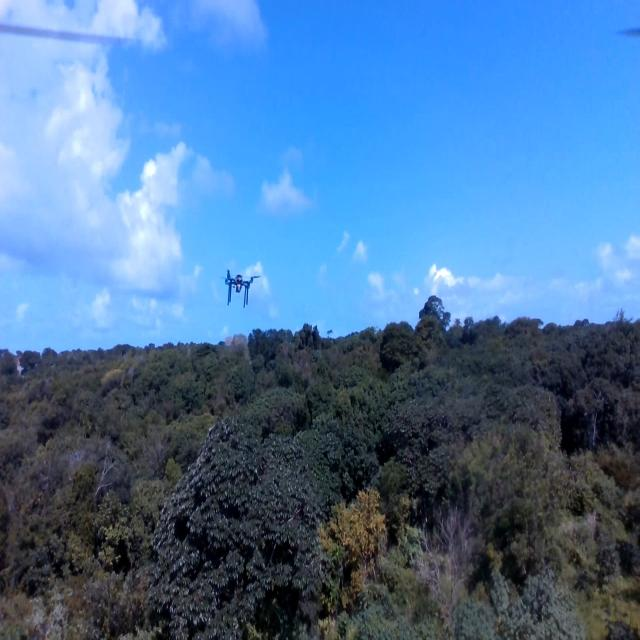-uav-: (218, 258, 264, 321)
